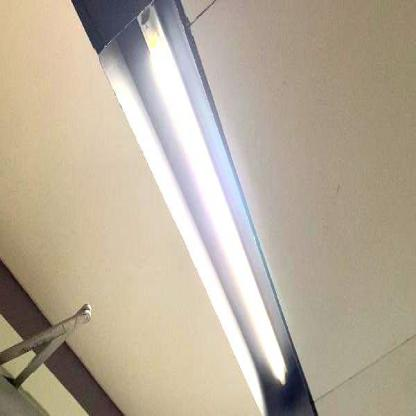light_on: (127, 2, 292, 394)
